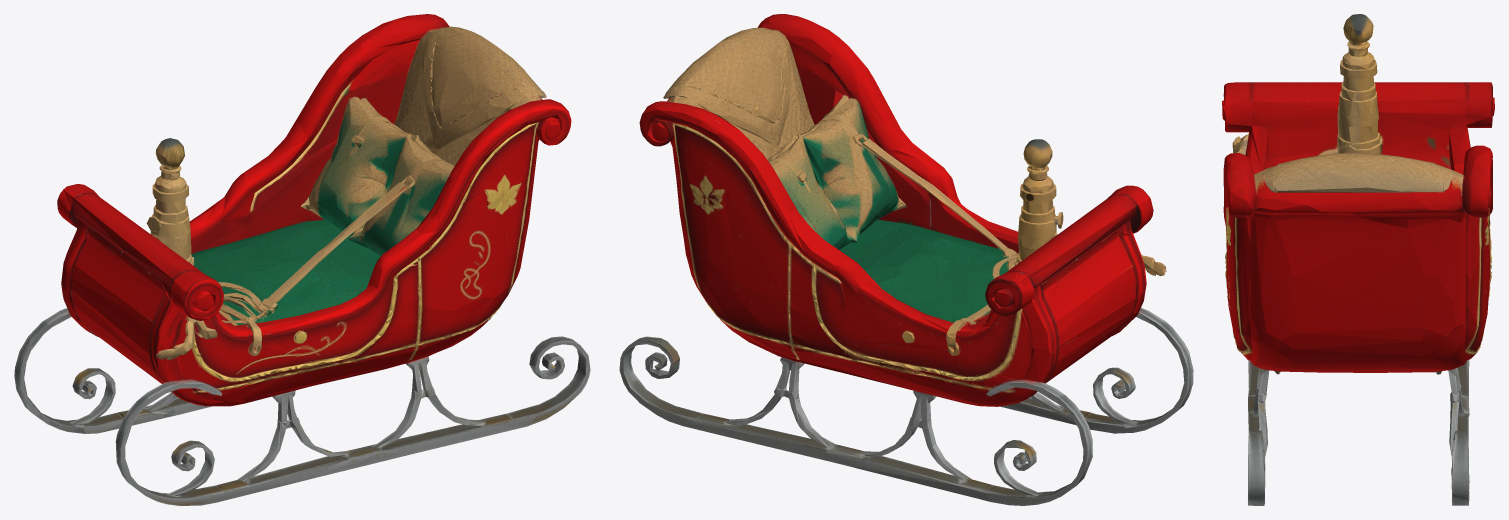
3 views of the same model, side by side, from view 1: azimuth 30°, elevation 25°; view 2: azimuth 150°, elevation 25°; view 3: azimuth 270°, elevation 25° (orthographic). The views are drawn at different scales.
Visible parts, largest first — view 1: output_unwrapped; view 2: output_unwrapped; view 3: output_unwrapped.
Boxes of the visible parts, x1,y1,x2,y2 form: output_unwrapped: [14, 14, 590, 505]; output_unwrapped: [619, 14, 1193, 505]; output_unwrapped: [1222, 14, 1494, 505].
Bounding box in the file's own units: 1.89 × 1.32 × 0.9288.
Materials: 1 (1 with a texture image).
